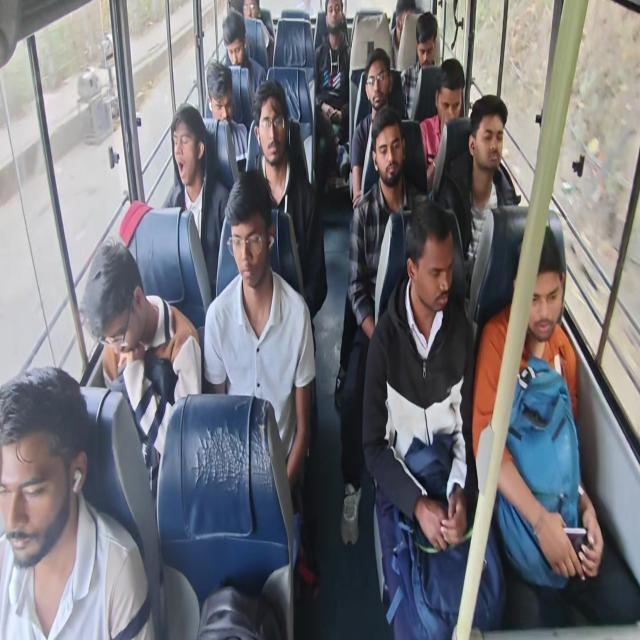person: (3, 392, 86, 566), (88, 252, 148, 363), (512, 243, 566, 351), (409, 215, 460, 323), (229, 190, 273, 295), (253, 99, 291, 161), (476, 106, 507, 175), (374, 124, 408, 186), (202, 72, 236, 128), (432, 70, 464, 128), (172, 124, 205, 180), (361, 62, 392, 109), (222, 22, 250, 74), (391, 8, 416, 51), (416, 28, 438, 74), (325, 0, 344, 36), (240, 0, 258, 27)
